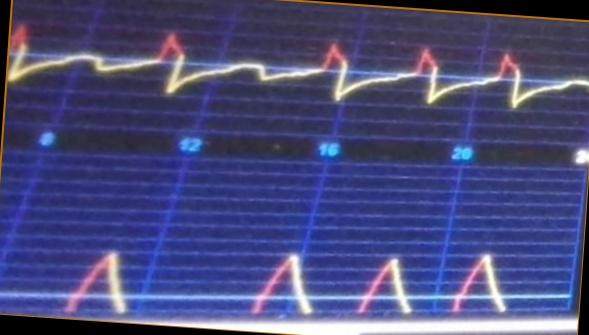Ineffective_effort Flow: (11, 18, 588, 113)
Ineffective_effort Volume: (58, 234, 521, 316)
